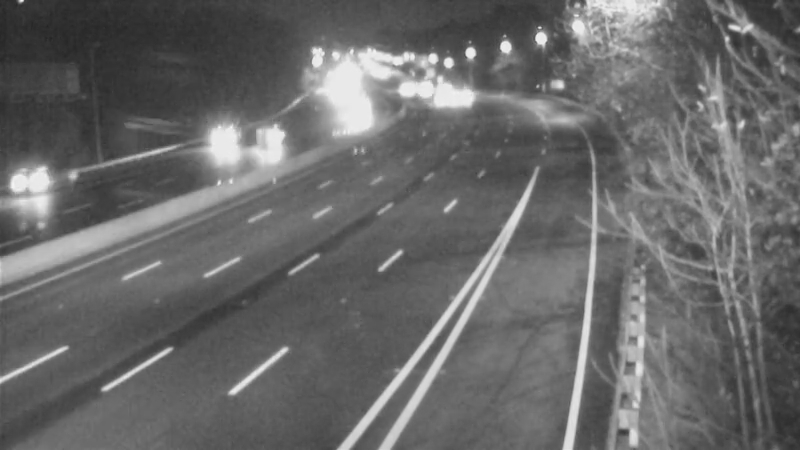vehicle: (209, 112, 289, 192), (1, 140, 74, 220), (407, 78, 457, 128), (188, 112, 238, 162), (329, 81, 379, 131)
